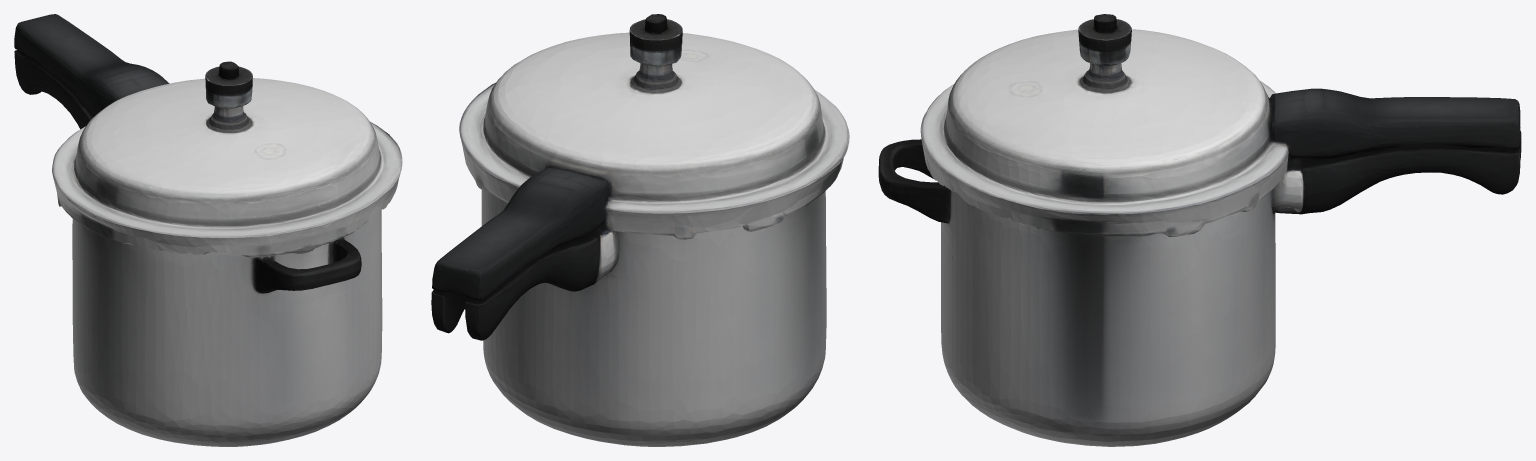
Rendered from cooker.glb.
3 renders of one model, left to right at view 1: azimuth 30°, elevation 25°; view 2: azimuth 150°, elevation 25°; view 3: azimuth 270°, elevation 25°, orthographic. The views are drawn at different scales.
Parts seen in each view (by area): view 1: world; view 2: world; view 3: world.
Boxes of the visible parts, x1,y1,x2,y2 form: world: (14, 14, 402, 446); world: (431, 14, 849, 446); world: (878, 14, 1521, 446).
Size of the model in its own units: 0.6139 by 0.6359 by 0.9984.
1 material, 1 textured.
